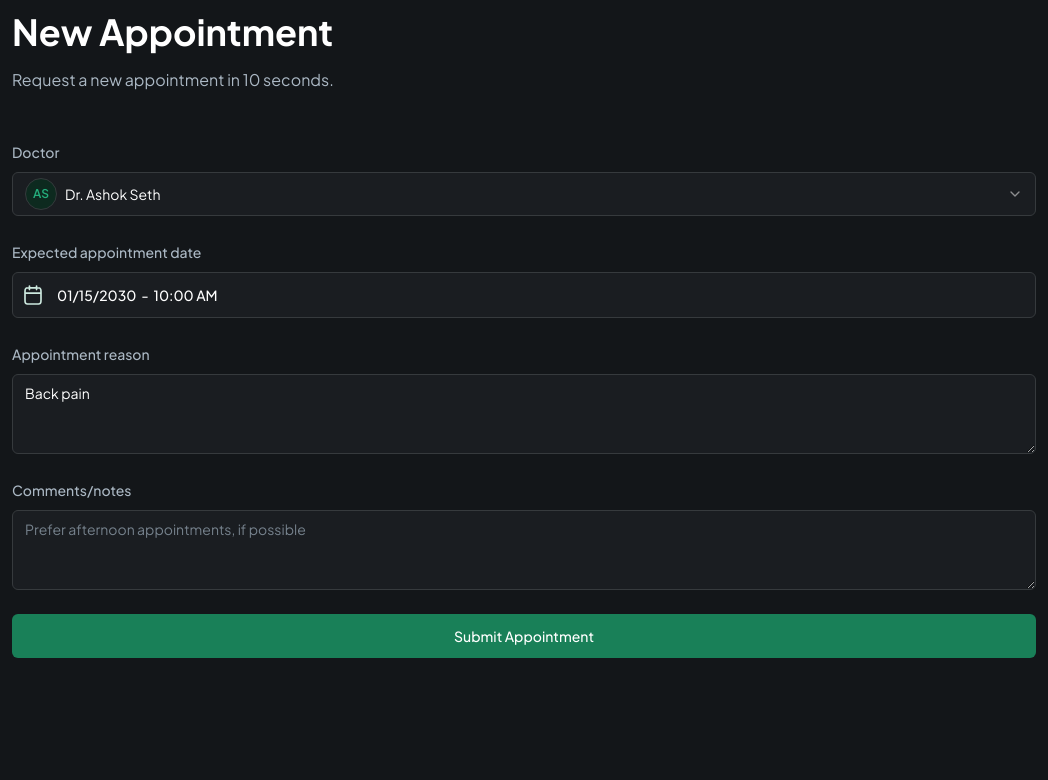
it: AppointmentForm › BK-06 create without patientId shows an error and never calls updateAppointment
Step 1. Click the button "Submit Appointment" → {"x": 524, "y": 636}, box [12,614,1036,658]
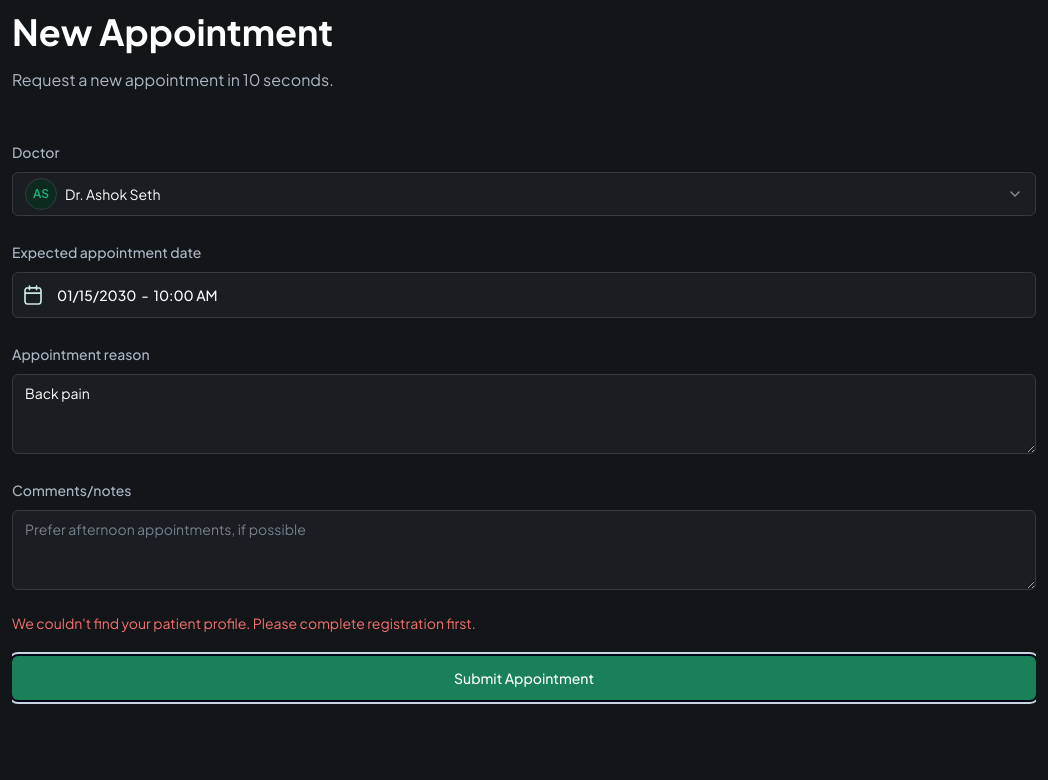
Now the message shows "complete registration first", box [12,614,476,632]
